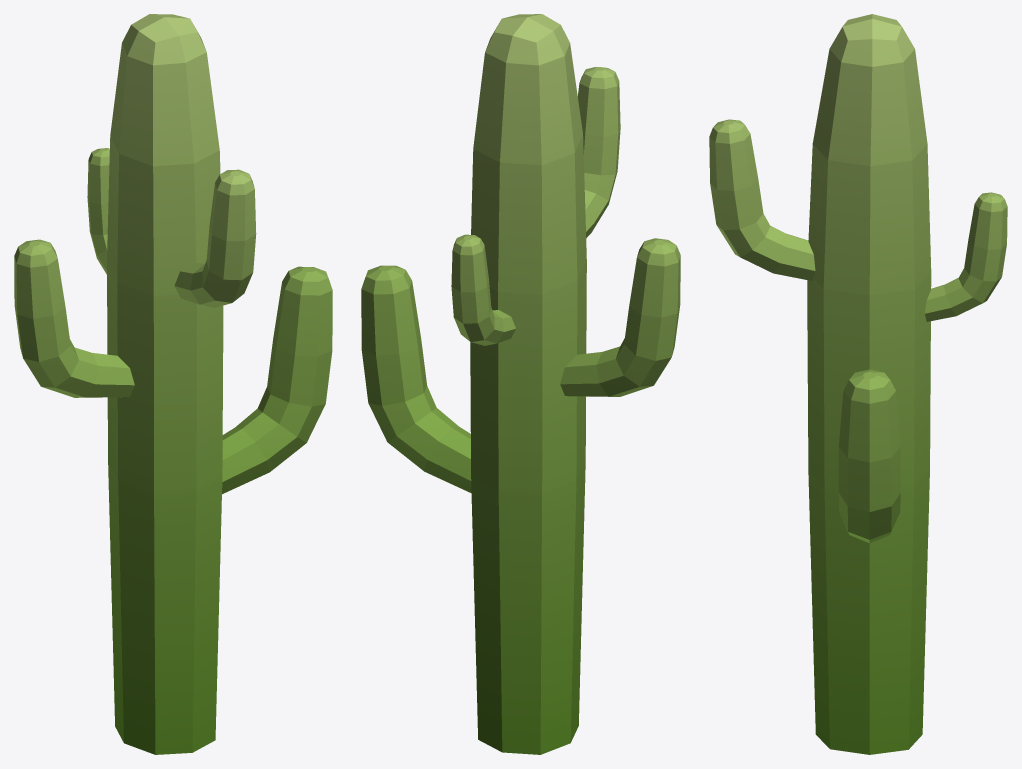
Rendered from cactus 4.fbx.
3 views of the same model, side by side, from view 1: azimuth 30°, elevation 25°; view 2: azimuth 150°, elevation 25°; view 3: azimuth 270°, elevation 25° (orthographic).
Visible parts, largest first — view 1: cactus 4; view 2: cactus 4; view 3: cactus 4.
Part boxes in pixels (x1,y1,x2,y2): cactus 4: (14,14,332,754); cactus 4: (361,14,680,754); cactus 4: (709,14,1007,754).
Size of the model in its own units: 113 by 245 by 92.68.
